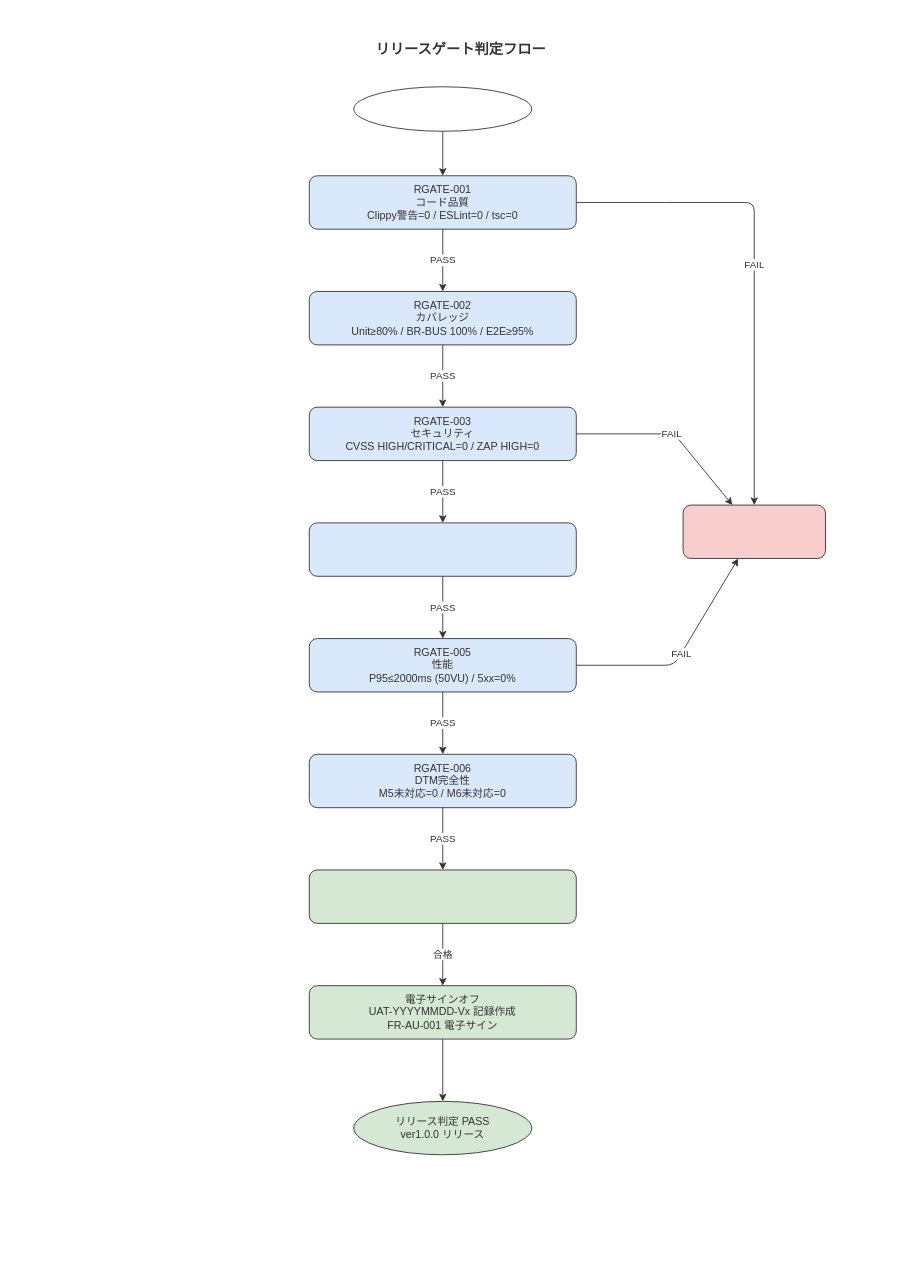
This 920x1276 diagram has some shape labels left out. Each missing label, with the centre of its shape:
NO-GO 欠陥修正後 再テスト: point (753, 531)
RGATE-004 API準拠 Schemathesis スキーマ準拠率 100%: point (442, 549)
UAT合格 TST-001〜007 全PASS 22 UC ブラインドテスト完了: point (442, 896)
全テスト実施完了: point (442, 108)
